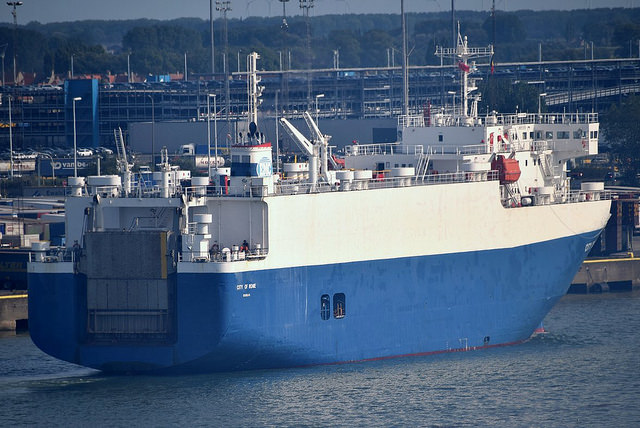PCC: (30, 75, 608, 366)
